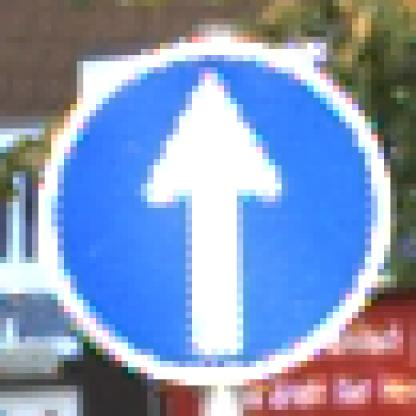AheadOnly: (39, 38, 385, 380)
